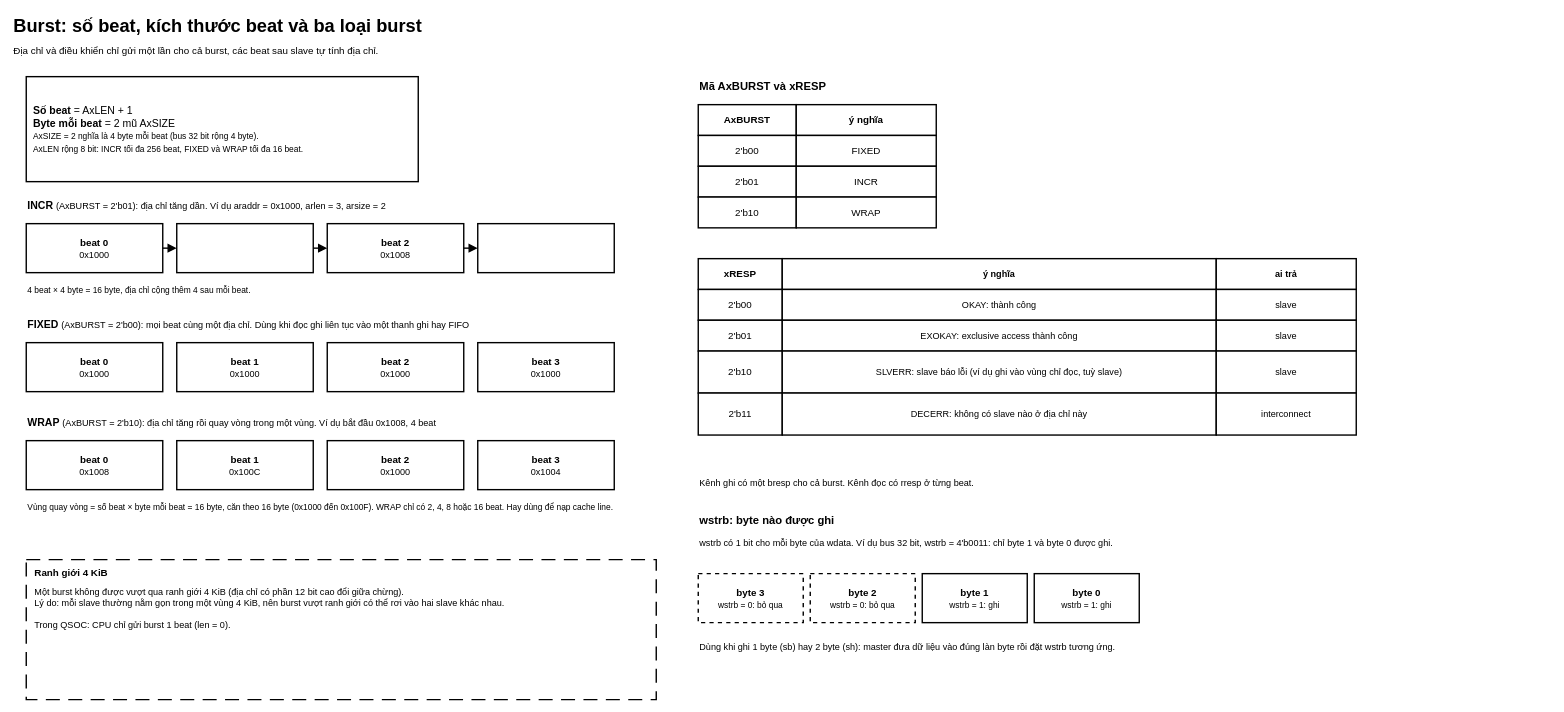
Image size: 1564x712. Some labels were removed from this diagram. Here are the shapes that lost their labels. From the top down, the centre of each, then its label:
[245,248]: beat 1 0x1004
[546,248]: beat 3 0x100C
